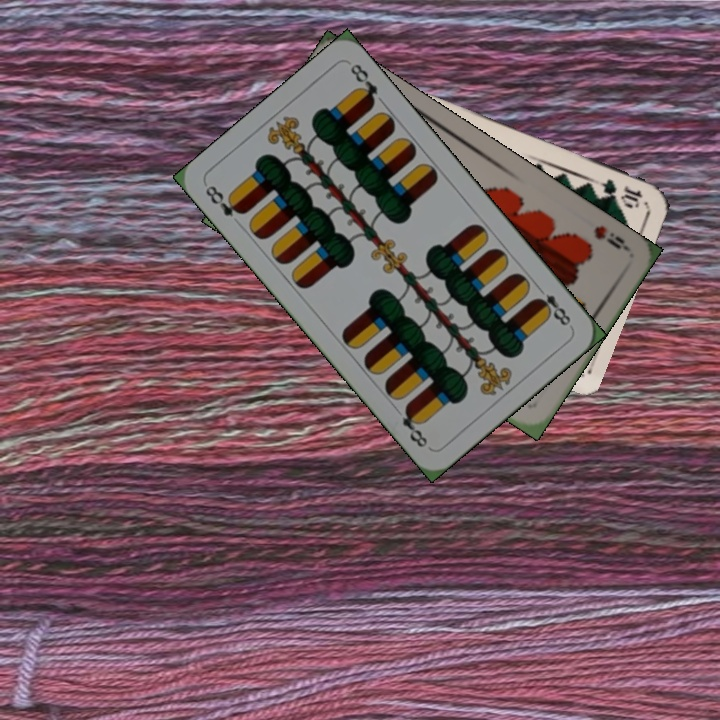E8: (530, 281, 574, 329), (201, 181, 248, 219)
G10: (591, 175, 645, 210)
H9: (589, 221, 631, 253)
